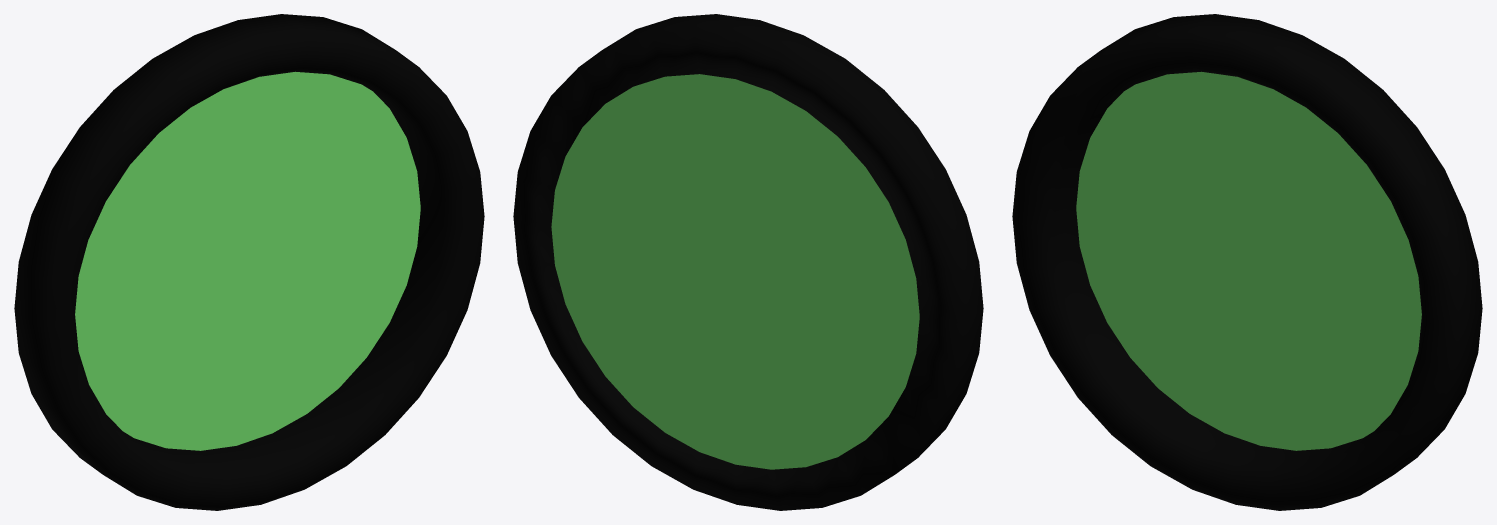
The model's file is VR27_botao.fbx.
3 views of the same model, side by side, from view 1: azimuth 30°, elevation 25°; view 2: azimuth 150°, elevation 25°; view 3: azimuth 330°, elevation 25° (orthographic).
Visible parts, largest first — view 1: Circle; view 2: Circle; view 3: Circle.
Boxes of the visible parts, box(x1,y1,x2,y2) form: Circle: box(14, 14, 484, 510); Circle: box(513, 14, 983, 510); Circle: box(1012, 14, 1482, 510).
Bounding box in the file's own units: 200 × 200 × 23.4.
